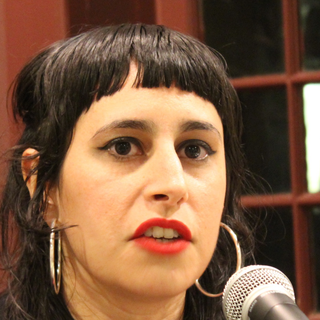eye: (98, 133, 148, 160), (177, 136, 213, 163)
